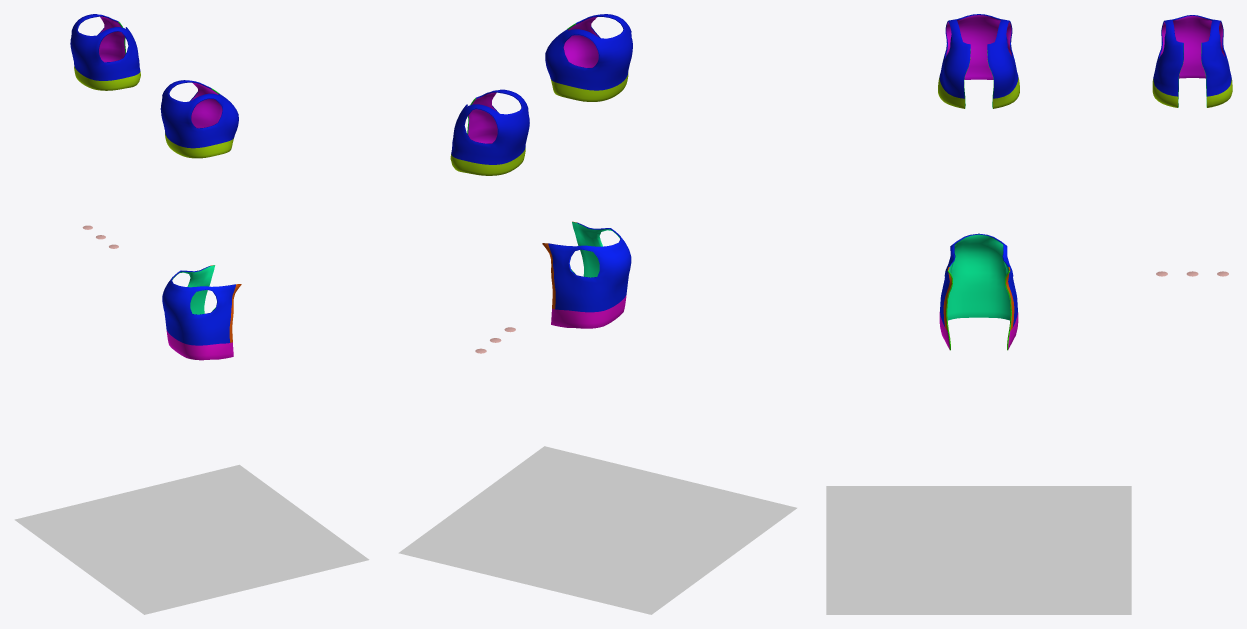
File: Civilian_Jacket.fbx
3 views of the same model, side by side, from view 1: azimuth 30°, elevation 25°; view 2: azimuth 150°, elevation 25°; view 3: azimuth 270°, elevation 25° (orthographic). The views are drawn at different scales.
Visible parts, largest first — view 1: back_img, Big_Jacket.001, Small_Jacket_F.001, Small_Jacket_M.001; view 2: back_img, Big_Jacket.001, Small_Jacket_F.001, Small_Jacket_M.001; view 3: back_img, Big_Jacket.001, Small_Jacket_F.001, Small_Jacket_M.001.
Part boxes in pixels (box(x1,y1,x2,y2)): back_img: box(14, 464, 369, 614); Big_Jacket.001: box(162, 265, 241, 360); Small_Jacket_F.001: box(160, 80, 238, 158); Small_Jacket_M.001: box(70, 14, 140, 90); back_img: box(398, 446, 796, 614); Big_Jacket.001: box(542, 221, 631, 328); Small_Jacket_F.001: box(545, 14, 632, 101); Small_Jacket_M.001: box(450, 89, 529, 175); back_img: box(826, 486, 1131, 614); Big_Jacket.001: box(939, 233, 1018, 350); Small_Jacket_F.001: box(938, 14, 1019, 108); Small_Jacket_M.001: box(1152, 15, 1232, 107).
Size of the model in its own units: 100 by 191 by 133.
